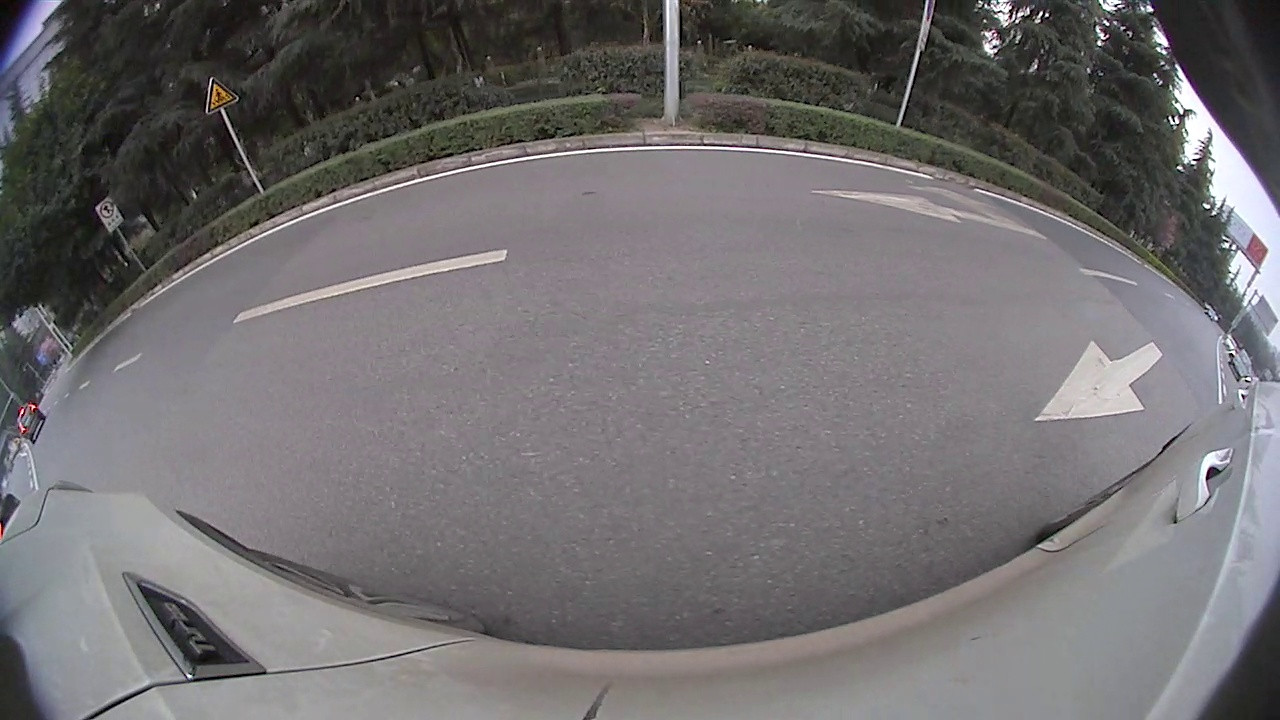car: (15, 402, 47, 445)
